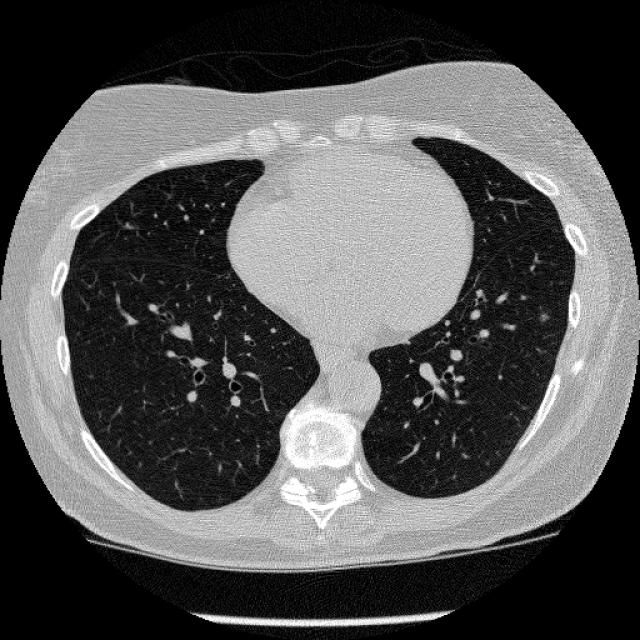nodule: (530, 304, 555, 328)
